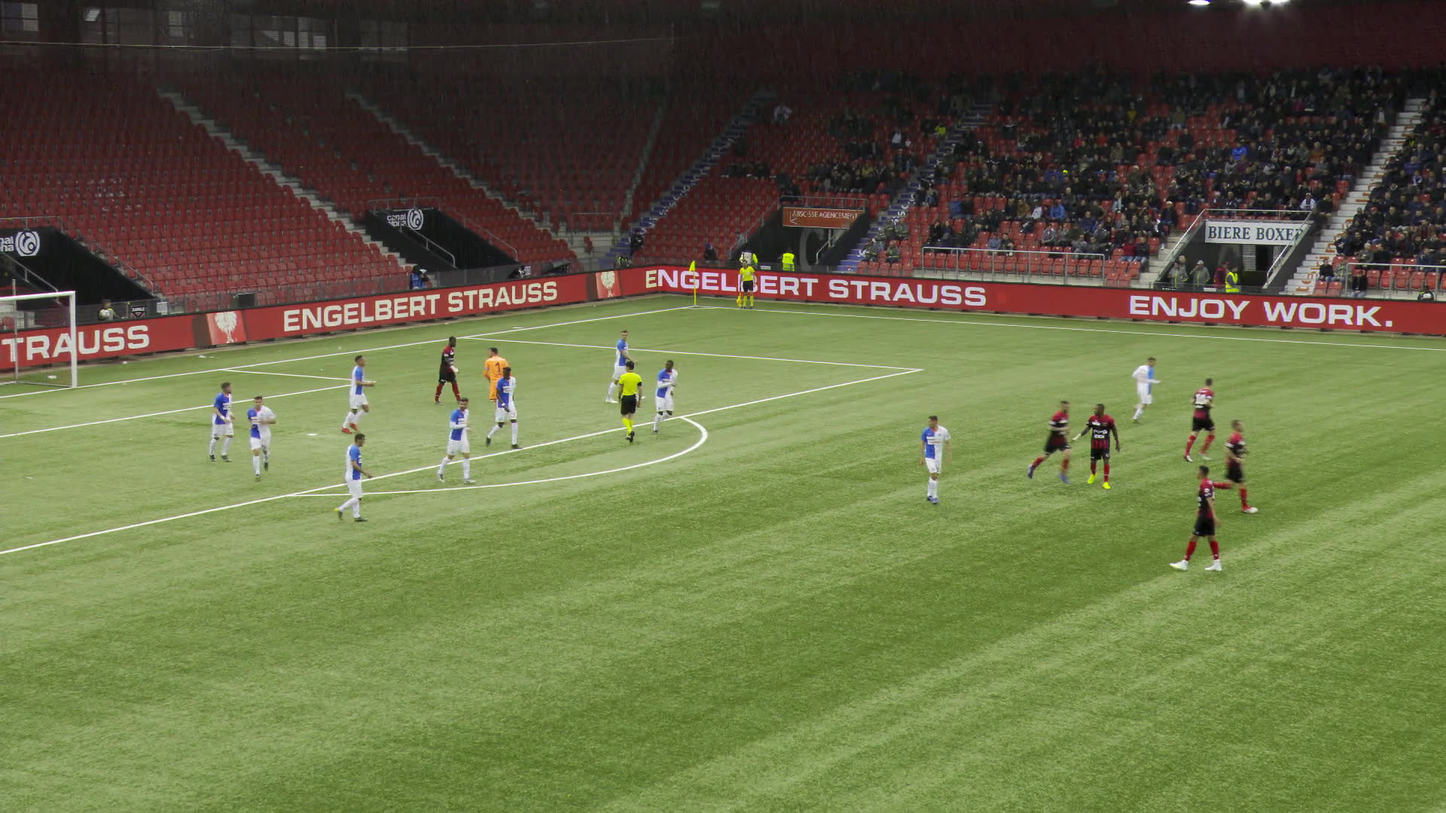player: (1167, 464, 1222, 573), (1203, 419, 1258, 515), (1069, 401, 1121, 490), (1027, 398, 1075, 483), (332, 432, 375, 522), (437, 397, 478, 485), (918, 413, 955, 504), (337, 353, 377, 434), (484, 366, 523, 449), (1179, 377, 1215, 463), (244, 394, 276, 483), (206, 379, 238, 463), (1126, 355, 1163, 425), (482, 346, 513, 425), (432, 336, 466, 406), (650, 358, 679, 437), (605, 330, 636, 403)
referee: (615, 359, 643, 441), (738, 260, 755, 308)
